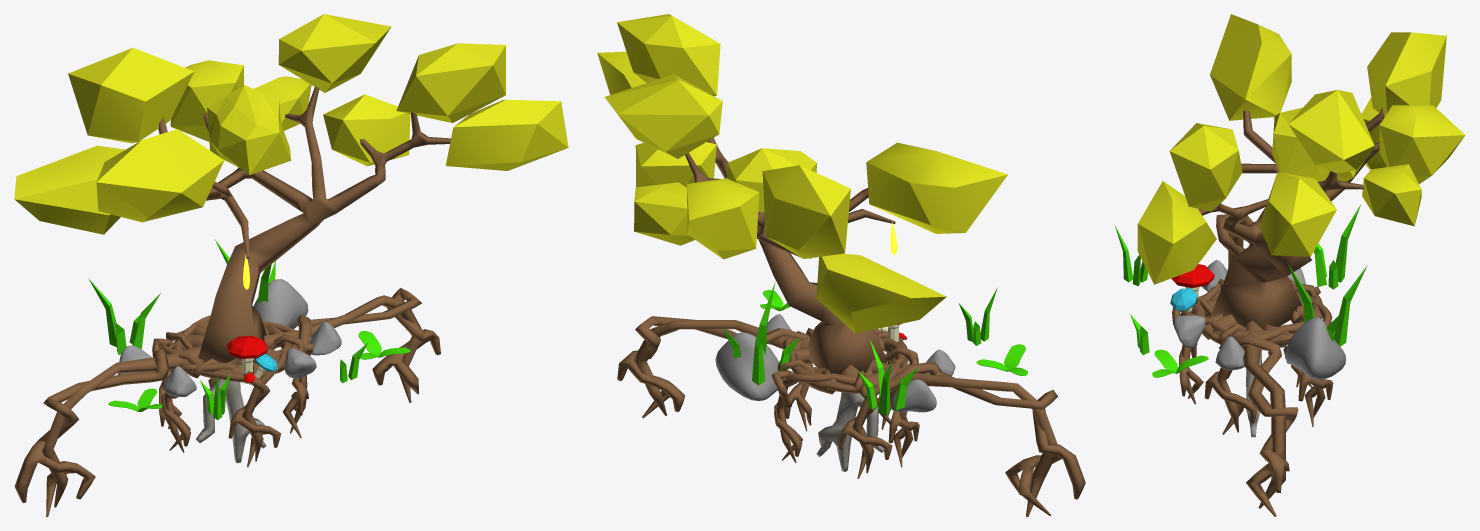
The model's file is Shrine.fbx.
The picture shows the model from 3 angles, left to right: view 1: azimuth 30°, elevation 25°; view 2: azimuth 150°, elevation 25°; view 3: azimuth 270°, elevation 25°; orthographic projection. The views are drawn at different scales.
Visible parts, largest first — view 1: Cube.001, Icosphere.003, Icosphere.001, Cube.005, Icosphere.005, Icosphere.004, Cube.003, Icosphere, Icosphere.007, Icosphere.002, Cube.002, Icosphere.006 (+11 smaller); view 2: Icosphere.003, Cube.005, Cube.001, Icosphere.001, Icosphere, Icosphere.007, Cube.003, Icosphere.004, Icosphere.009, Cube.002, Icosphere.008, rock.005 (+9 smaller); view 3: Cube.001, Icosphere.003, Cube.005, Icosphere.001, Icosphere.005, Cube.002, Icosphere.007, Icosphere.006, Icosphere.009, Icosphere.004, Icosphere.008, rock.005 (+11 smaller).
Part boxes in pixels (bbox=[...]): Cube.001: bbox=[158, 87, 450, 363]; Icosphere.003: bbox=[96, 129, 224, 222]; Icosphere.001: bbox=[68, 47, 194, 143]; Cube.005: bbox=[152, 315, 313, 467]; Icosphere.005: bbox=[445, 99, 568, 170]; Icosphere.004: bbox=[396, 43, 505, 123]; Cube.003: bbox=[14, 334, 204, 516]; Icosphere: bbox=[14, 145, 125, 234]; Icosphere.007: bbox=[278, 14, 391, 92]; Icosphere.002: bbox=[207, 85, 291, 174]; Cube.002: bbox=[264, 288, 440, 402]; Icosphere.006: bbox=[323, 94, 410, 166]; Icosphere.003: bbox=[866, 142, 1007, 233]; Cube.005: bbox=[771, 328, 919, 478]; Cube.001: bbox=[685, 138, 895, 374]; Icosphere.001: bbox=[762, 165, 850, 258]; Icosphere: bbox=[816, 253, 946, 333]; Icosphere.007: bbox=[604, 74, 722, 158]; Cube.003: bbox=[840, 359, 1085, 516]; Icosphere.004: bbox=[617, 14, 720, 96]; Icosphere.009: bbox=[687, 178, 759, 259]; Cube.002: bbox=[617, 316, 809, 418]; Icosphere.008: bbox=[634, 182, 694, 245]; rock.005: bbox=[715, 332, 783, 400]; Cube.001: bbox=[1198, 107, 1384, 330]; Icosphere.003: bbox=[1210, 14, 1291, 120]; Cube.005: bbox=[1172, 278, 1333, 434]; Icosphere.001: bbox=[1367, 32, 1446, 116]; Icosphere.005: bbox=[1137, 181, 1216, 284]; Cube.002: bbox=[1213, 314, 1298, 516]; Icosphere.007: bbox=[1288, 90, 1375, 173]; Icosphere.006: bbox=[1259, 172, 1336, 256]; Icosphere.009: bbox=[1379, 105, 1465, 183]; Icosphere.004: bbox=[1169, 123, 1242, 211]; Icosphere.008: bbox=[1362, 164, 1421, 226]; rock.005: bbox=[1285, 317, 1345, 379].
Size of the model in its own units: 1707 by 1236 by 959.
